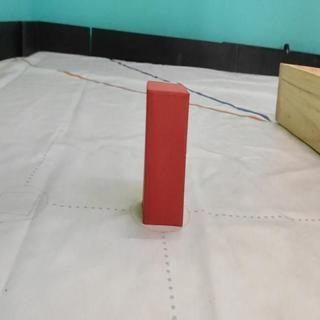redbox: (142, 79, 189, 226)
